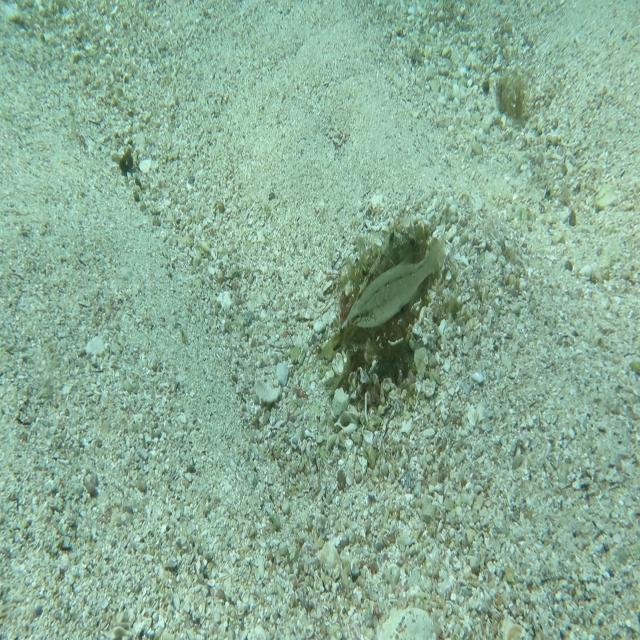LF: (314, 223, 426, 363)
female: (347, 230, 446, 330)
nest: (329, 209, 449, 408)
vegetation: (491, 68, 528, 125), (114, 149, 134, 176)
